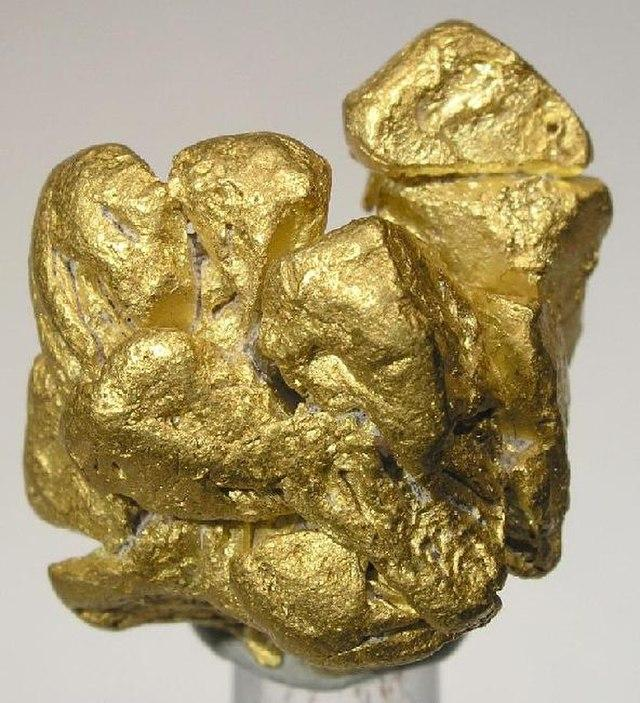gold: (0, 4, 582, 679)
